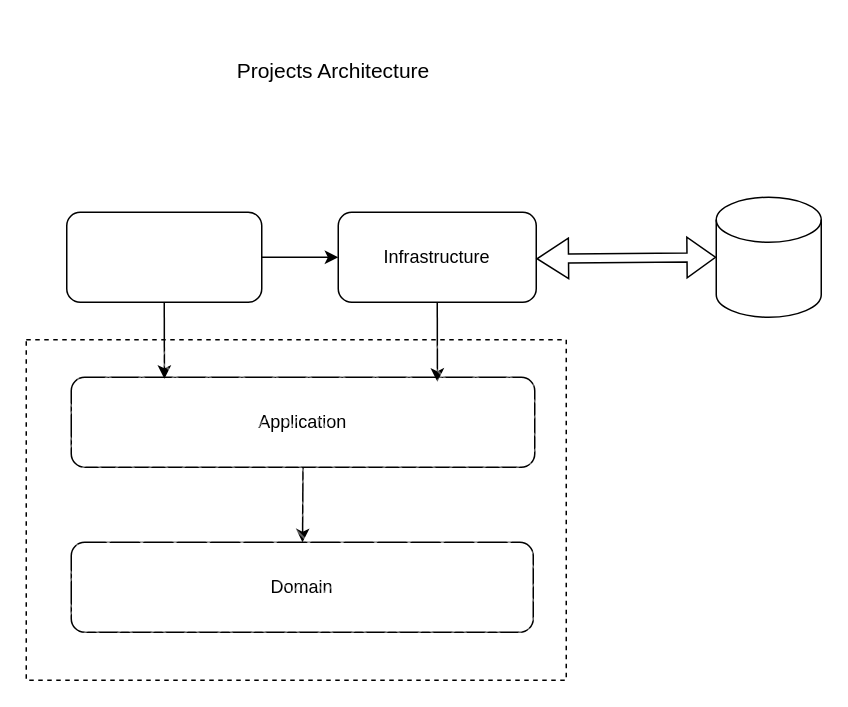
The diagram is 848 pixels wide and 707 high, and some of its shapes have lost their labels. Here are the shapes that lost their labels. From the top down, the box of each, then its label:
(65, 211, 262, 302): API
(715, 196, 821, 317): Database
